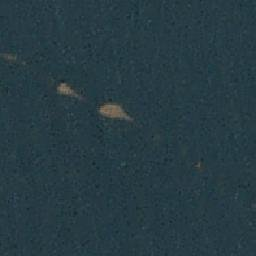debris: (97, 101, 131, 120), (54, 82, 79, 96)
